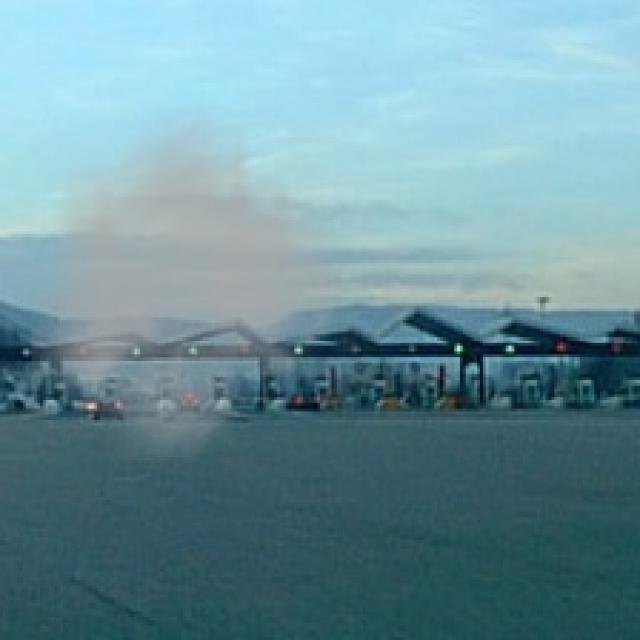smoke: (32, 97, 374, 477)
